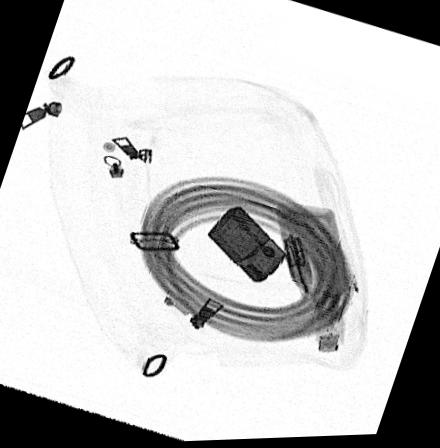Lighter: (206, 209, 287, 285)
